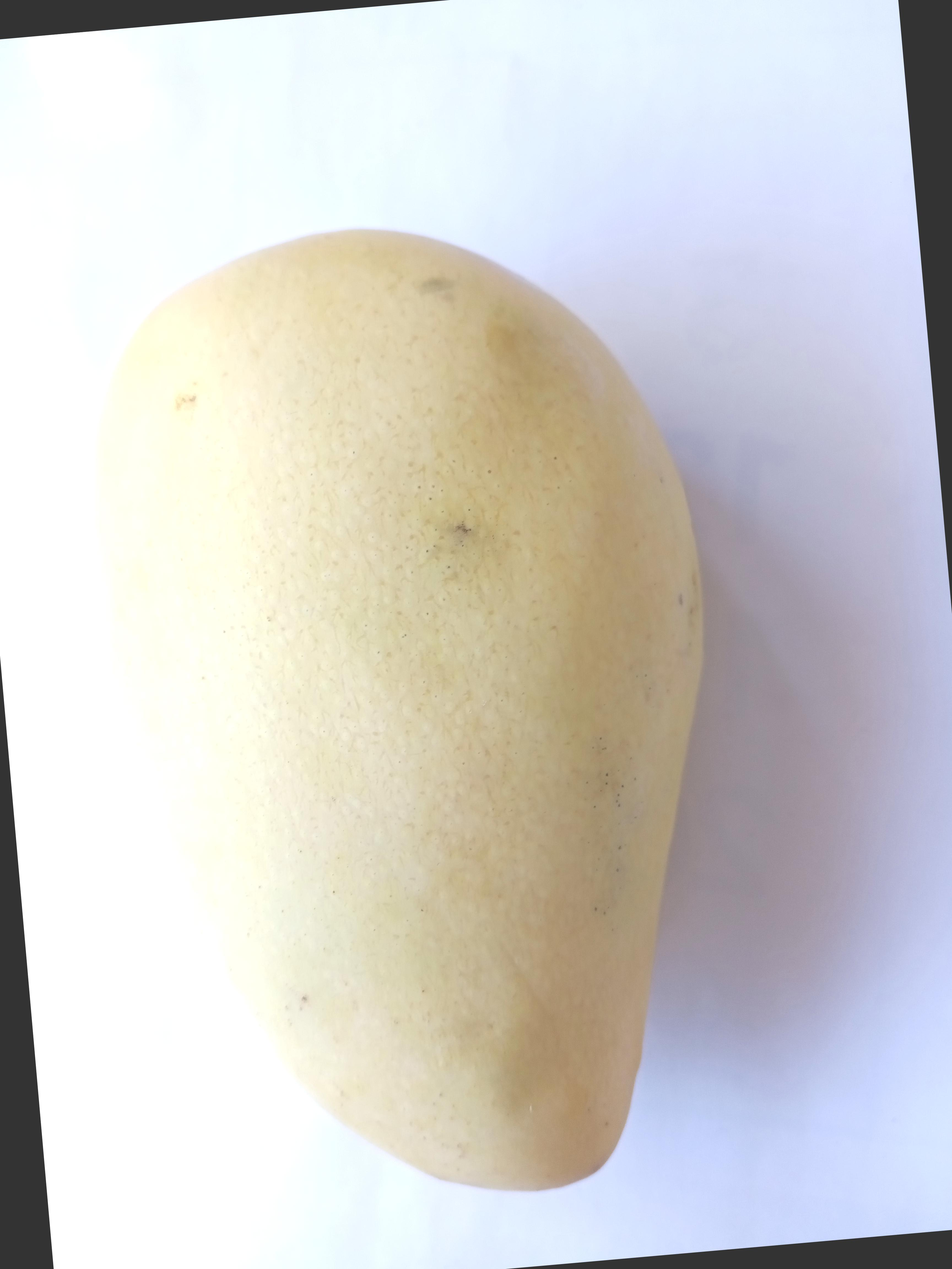Mango Ripe: (0, 221, 732, 1269)
